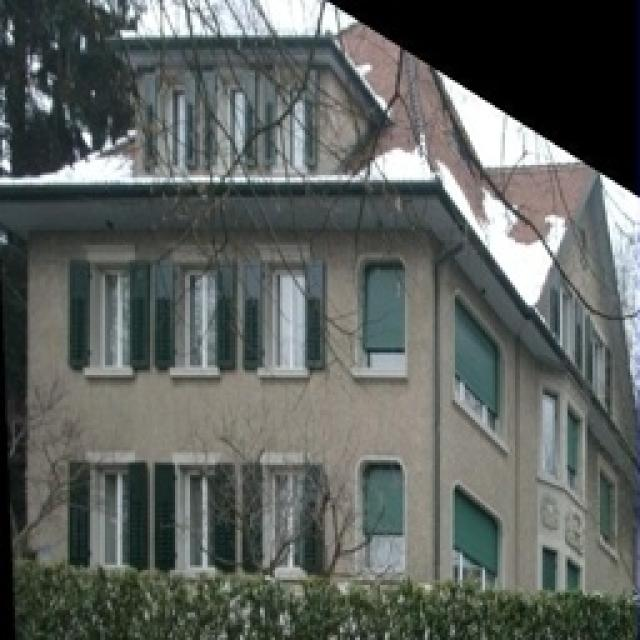building: (7, 53, 615, 595)
